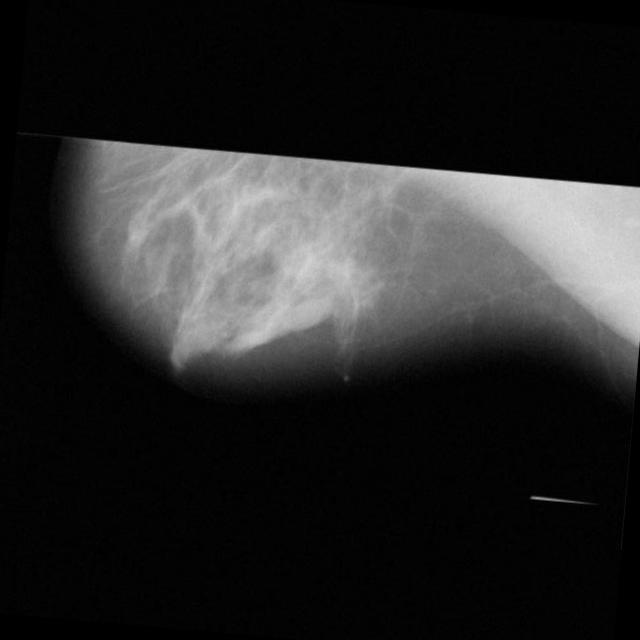ARCH: (312, 282, 377, 348)
